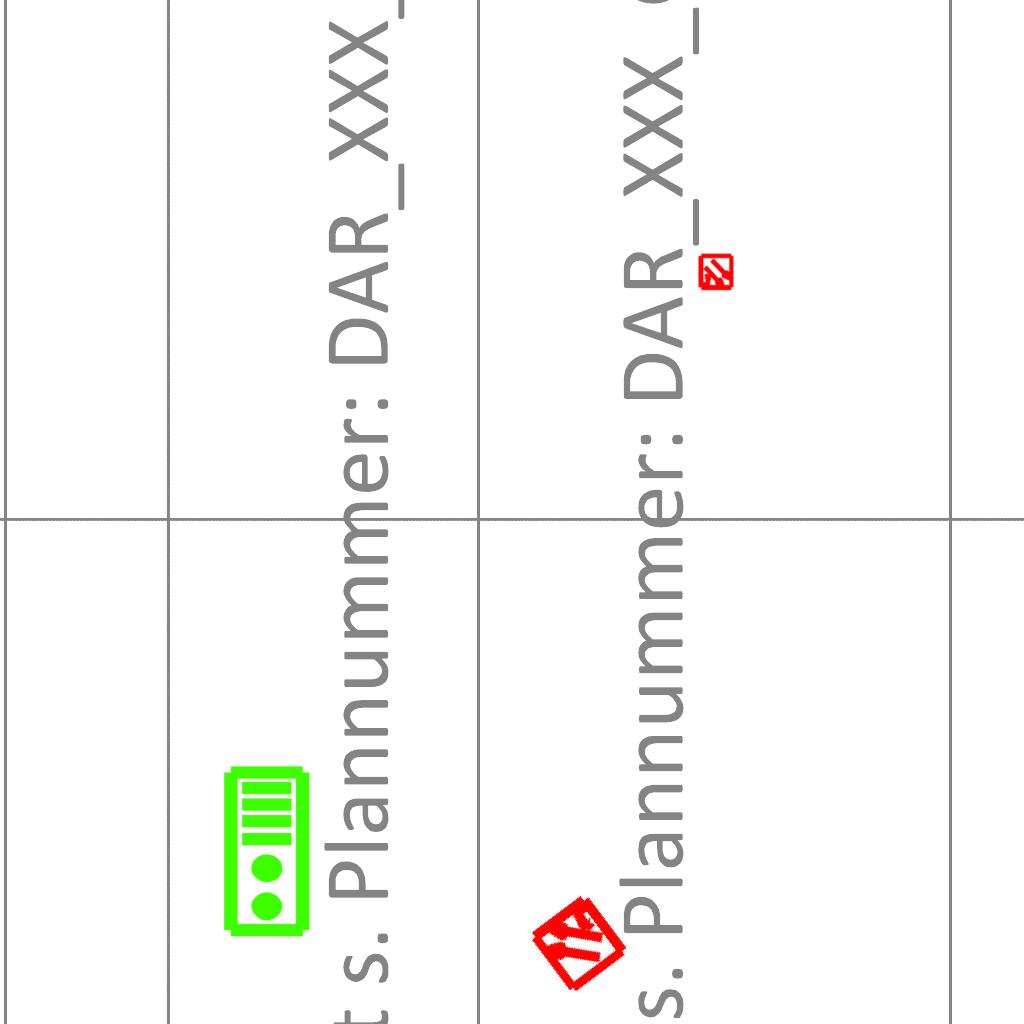Gegensprechanlage_mit_Video: (221, 764, 316, 940)
OT_Multisensormelder_(Kombination_RMO_WMD): (498, 862, 657, 1021), (688, 245, 744, 301)
